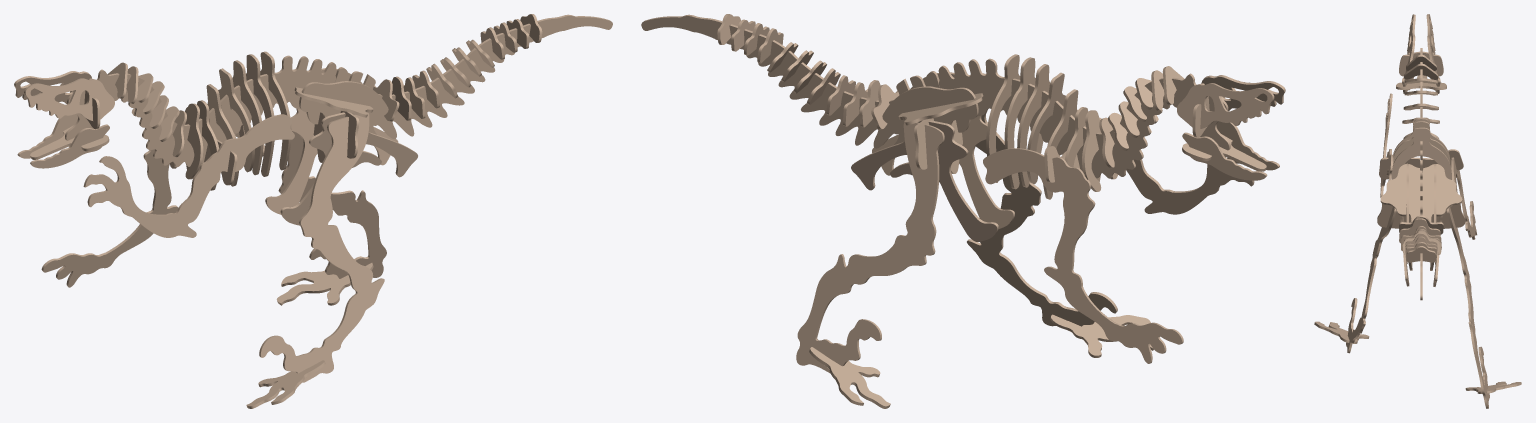
Rendered from Velociraptor 3D.FBX.
The picture shows the model from 3 angles, left to right: view 1: azimuth 30°, elevation 25°; view 2: azimuth 150°, elevation 25°; view 3: azimuth 270°, elevation 25°; orthographic projection. The views are drawn at different scales.
Parts seen in each view (by area): view 1: Shape84; view 2: Shape84; view 3: Shape84.
Boxes of the visible parts, box(x1,y1,x2,y2) form: Shape84: box(14, 14, 612, 408); Shape84: box(641, 14, 1285, 408); Shape84: box(1314, 14, 1521, 408).
Size of the model in its own units: 45.64 by 24.71 by 18.09.
